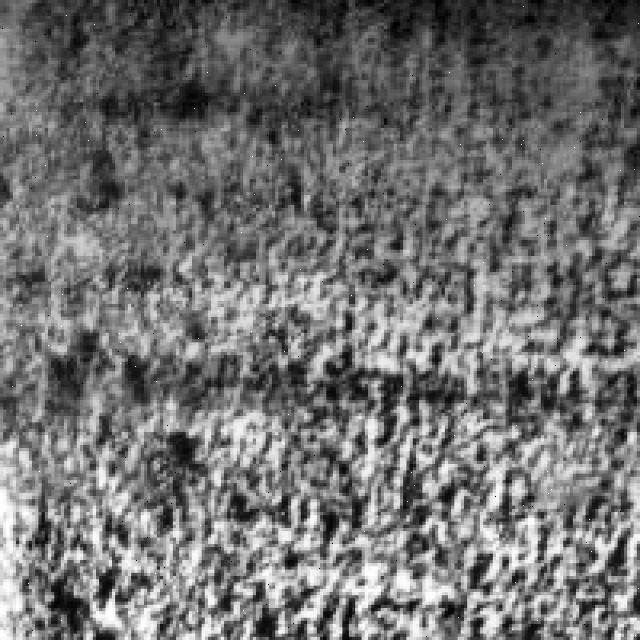Rolled_in_Scale: (29, 19, 630, 630)
